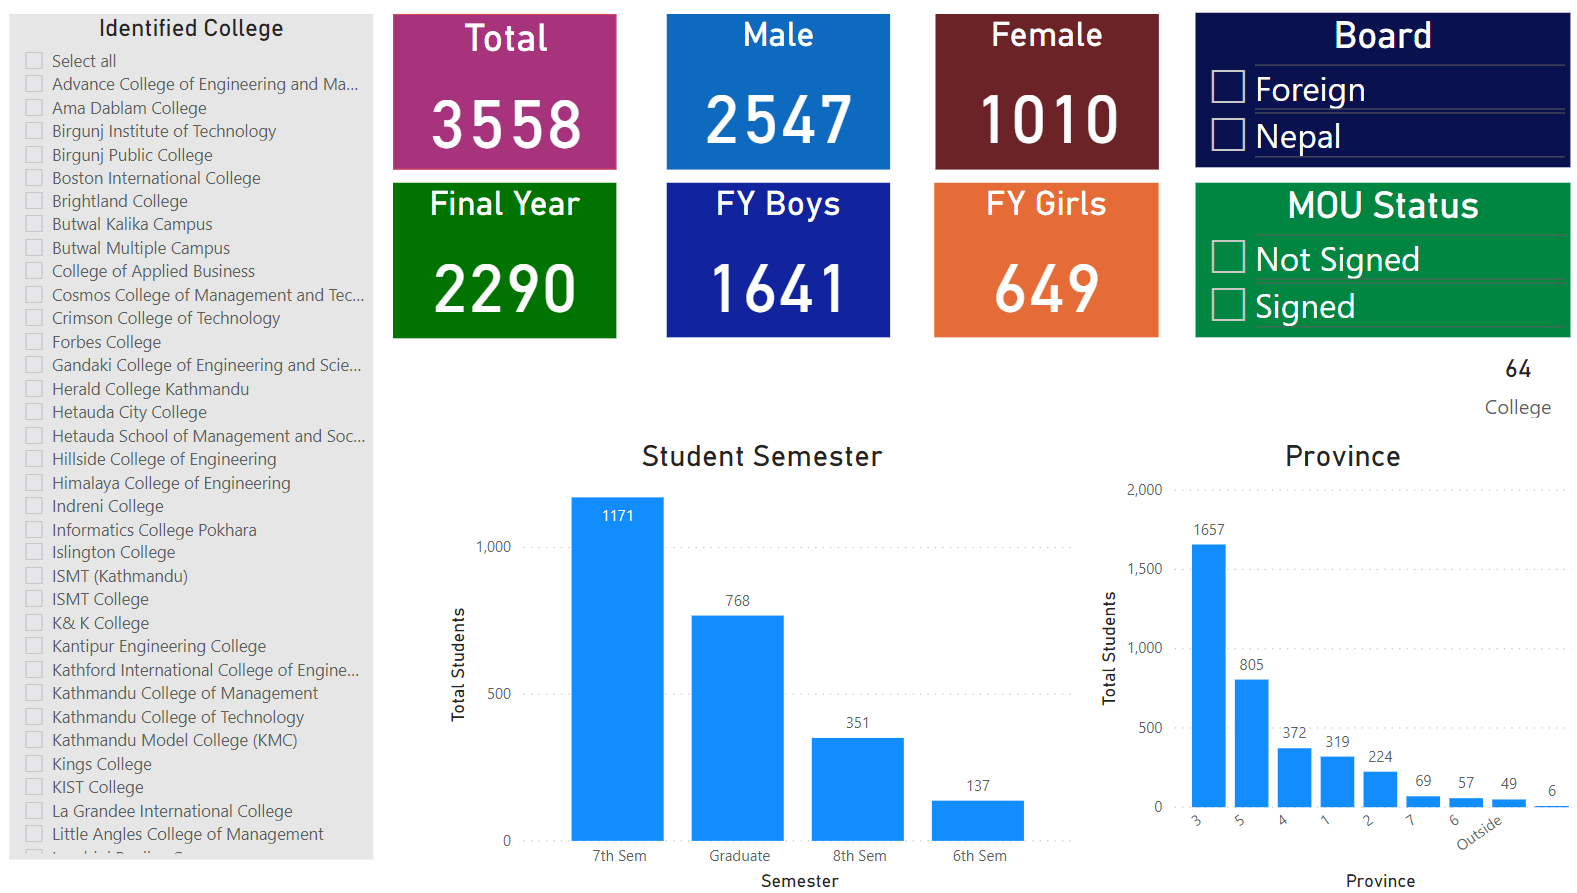

This screenshot's page, from the dashboard's own definition file:
{"tool":"powerbi","page":{"name":"MOU College","canvas":[1280,720],"ordinal":1},"visuals":[{"type":"slicer","title":"Identified College","fields":{"Values":["identifiedCollege (2).profile_field_collegename"]},"box":[9.3,11.6,292.1,678.4],"z":0},{"type":"card","title":"Total","fields":{"Values":["CountNonNull(user_latest.id)"]},"box":[316.5,11.6,179.2,124.5],"z":1000},{"type":"card","title":"Male","fields":{"Values":["CountNonNull(user_latest.profile_field_gender)"]},"box":[536.4,11.6,179.2,124.5],"z":2000},{"type":"card","title":"Female","fields":{"Values":["CountNonNull(user_latest.profile_field_gender)"]},"box":[751.7,11.6,179.2,124.5],"z":3000},{"type":"columnChart","title":"Student Semester","fields":{"Category":["user_latest.profile_field_Semester1"],"Y":["CountNonNull(user_latest.profile_field_Semester)1"]},"box":[356.4,351.5,513.9,368.5],"z":4000},{"type":"columnChart","title":"Province","fields":{"Category":["user_latest.profile_field_Province"],"Y":["CountNonNull(user_latest.profile_field_Province)"]},"box":[879,351.6,401,368.1],"z":5000},{"type":"slicer","title":"MOU Status","fields":{"Values":["identifiedCollege (2).status"]},"box":[960.4,147.6,300.7,124.1],"z":6000},{"type":"card","title":"Final Year","fields":{"Values":["CountNonNull(user_latest.id)"]},"box":[316.5,147.8,179.2,124.5],"z":7000},{"type":"card","title":"FY Boys","fields":{"Values":["CountNonNull(user_latest.profile_field_gender)"]},"box":[536.6,147.6,178.9,124.1],"z":8000},{"type":"card","title":"FY Girls","fields":{"Values":["CountNonNull(user_latest.profile_field_gender)"]},"box":[751.3,147.6,180,124.1],"z":9000},{"type":"slicer","title":"Board","fields":{"Values":["identifiedCollege (2).board"]},"box":[960.4,11.2,300.7,124.1],"z":10000},{"type":"card","fields":{"Values":["CountNonNull(identifiedCollege.profile_field_collegename)"]},"box":[1178.2,272.7,82.4,67.9],"z":11000}]}

Visuals, with their boxes in screenshot pixels (x1, y1, x2, y2), scaled from the page's 1280x720 canvas onto the 1577x893 screenshot:
"Identified College" slicer: {"x1": 11, "y1": 14, "x2": 371, "y2": 856}
"Total" card: {"x1": 390, "y1": 14, "x2": 611, "y2": 169}
"Male" card: {"x1": 661, "y1": 14, "x2": 882, "y2": 169}
"Female" card: {"x1": 926, "y1": 14, "x2": 1147, "y2": 169}
"Student Semester" columnChart: {"x1": 439, "y1": 436, "x2": 1072, "y2": 892}
"Province" columnChart: {"x1": 1083, "y1": 436, "x2": 1576, "y2": 892}
"MOU Status" slicer: {"x1": 1183, "y1": 183, "x2": 1554, "y2": 337}
"Final Year" card: {"x1": 390, "y1": 183, "x2": 611, "y2": 338}
"FY Boys" card: {"x1": 661, "y1": 183, "x2": 882, "y2": 337}
"FY Girls" card: {"x1": 926, "y1": 183, "x2": 1147, "y2": 337}
"Board" slicer: {"x1": 1183, "y1": 14, "x2": 1554, "y2": 168}
card - CountNonNull(identifiedCollege.profile_field_collegename): {"x1": 1452, "y1": 338, "x2": 1553, "y2": 422}
